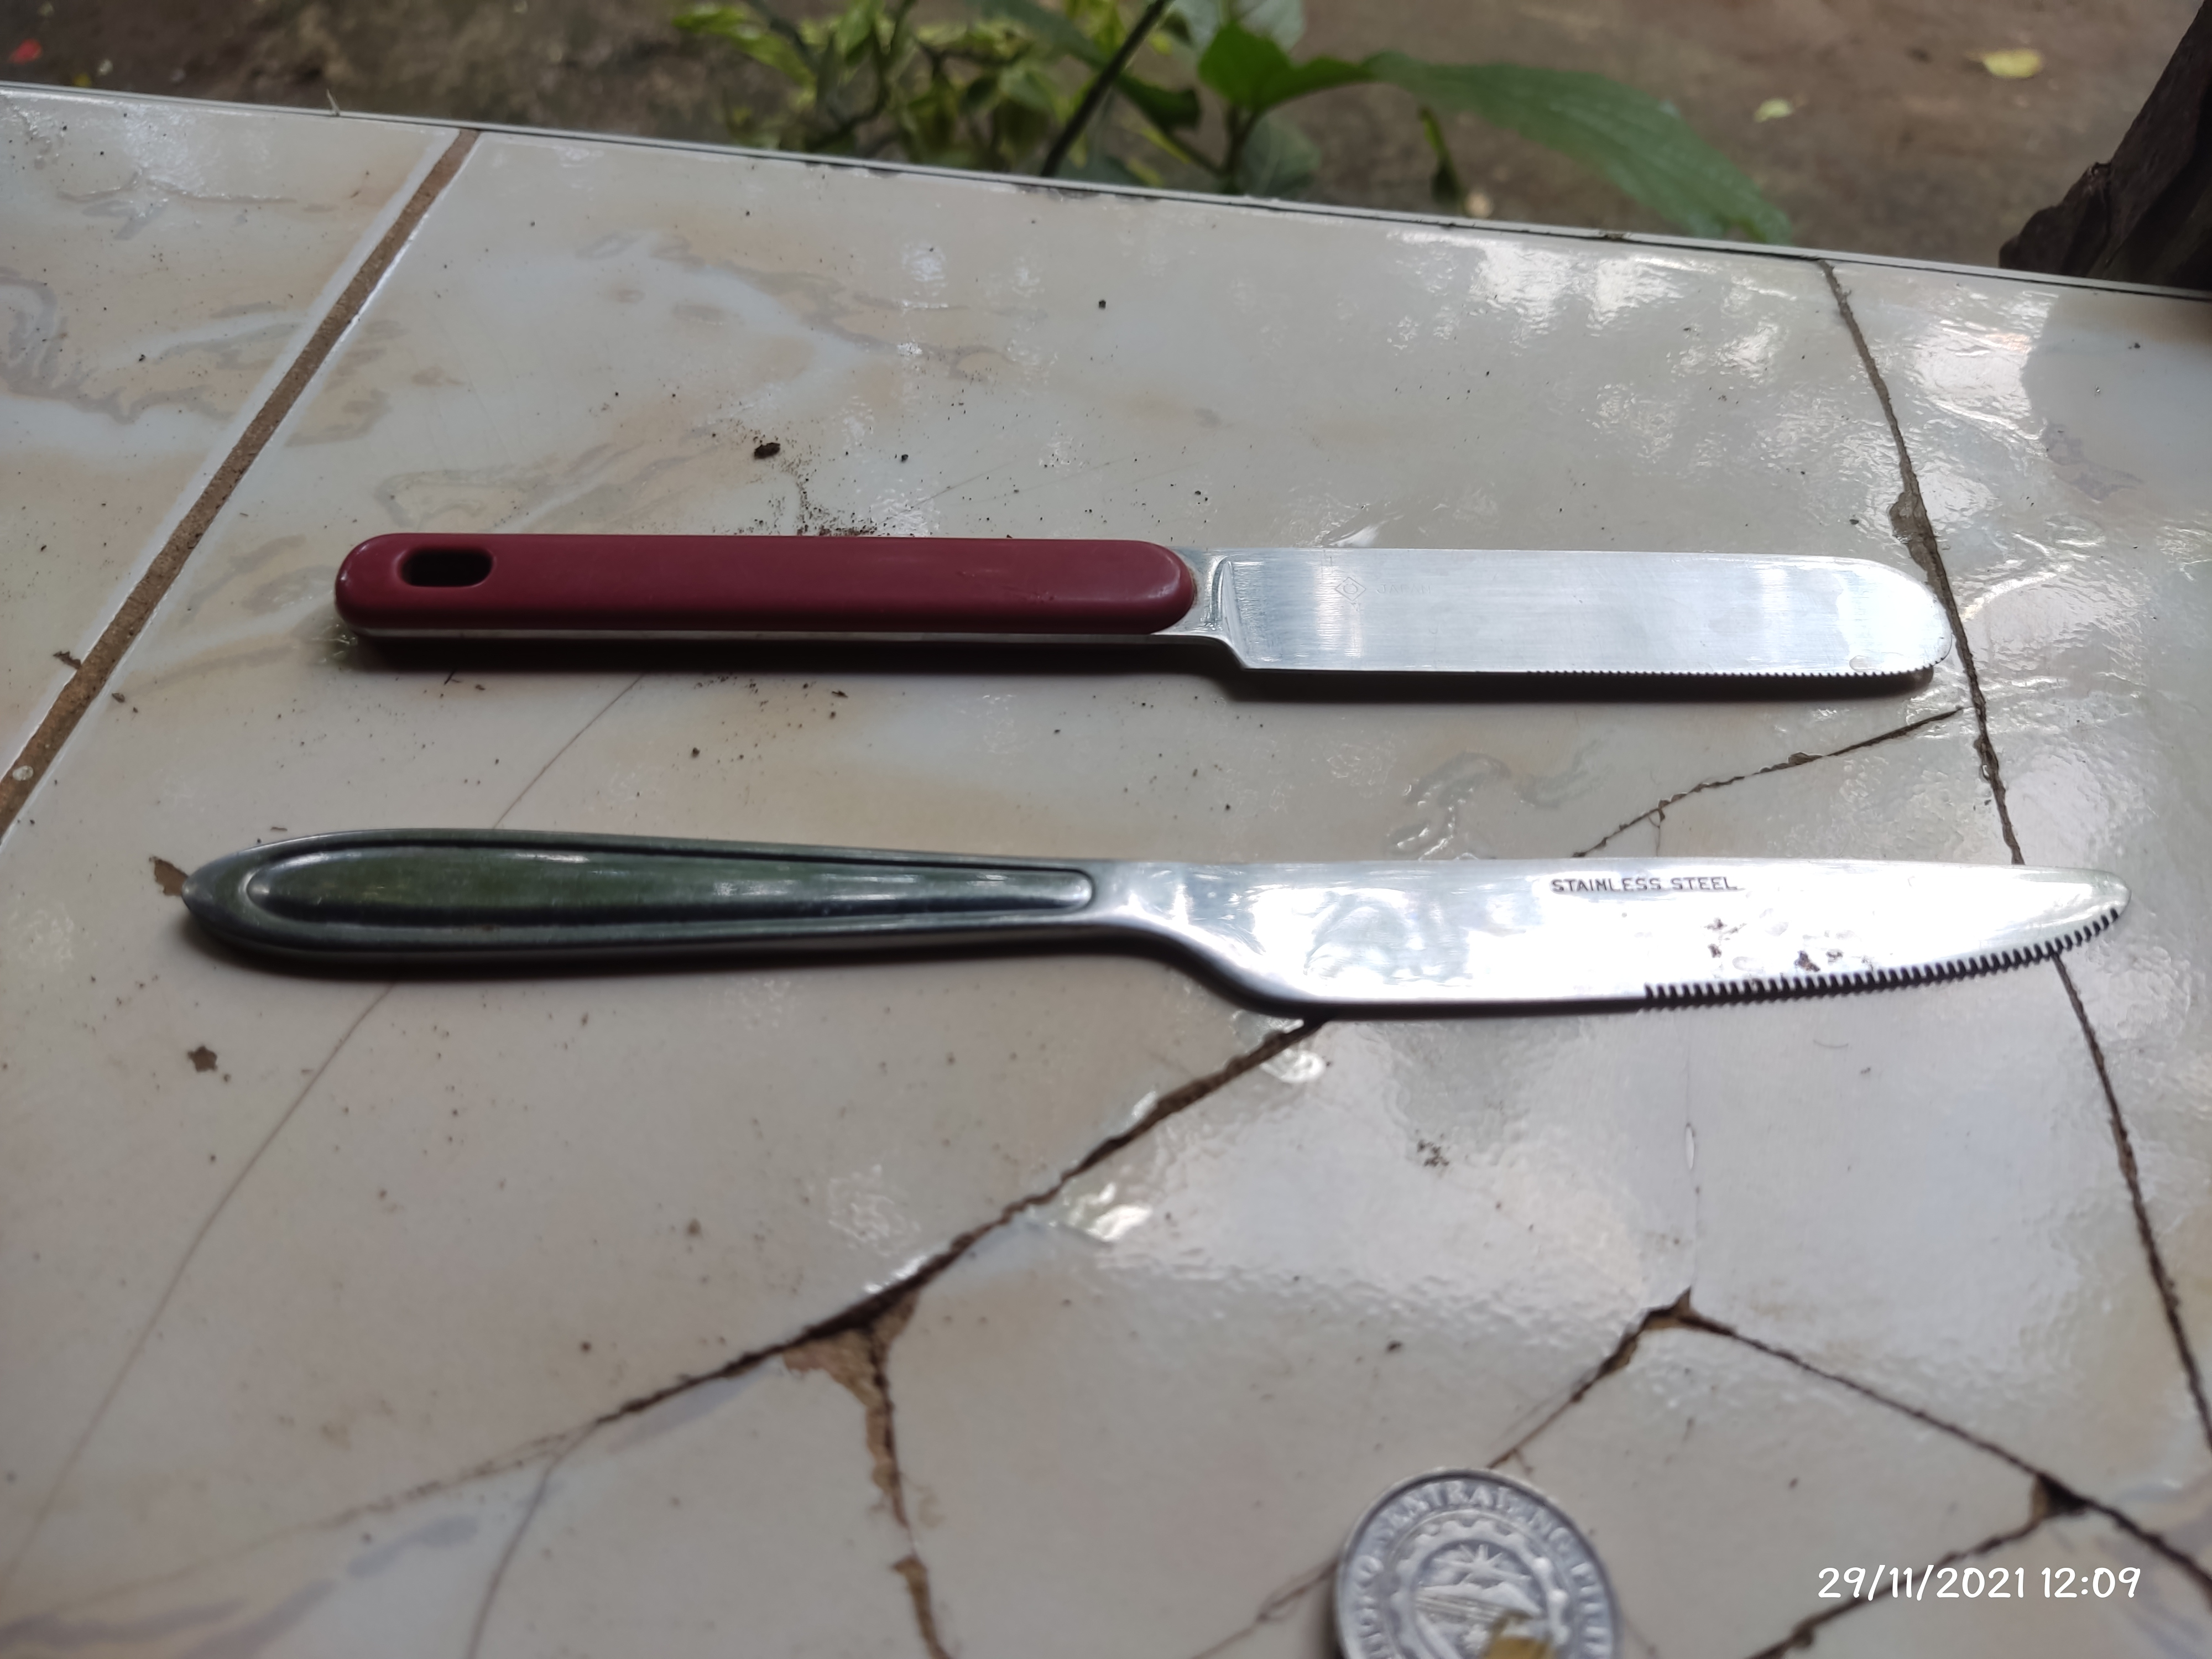knife: (176, 838, 2135, 1032)
